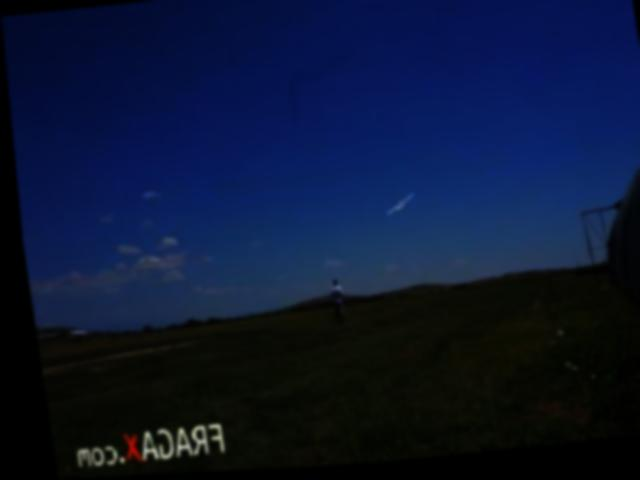uav: (373, 183, 417, 232)
